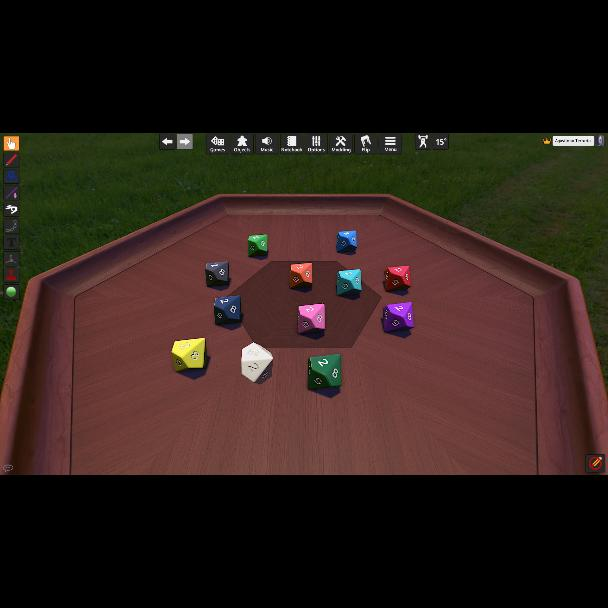d10: (241, 342, 275, 382), (305, 352, 339, 390), (172, 338, 208, 373), (382, 302, 413, 332), (214, 296, 242, 326), (296, 304, 323, 334), (336, 269, 362, 295), (384, 266, 410, 292), (204, 262, 228, 288), (288, 263, 312, 289), (248, 235, 268, 258), (336, 231, 356, 253)
